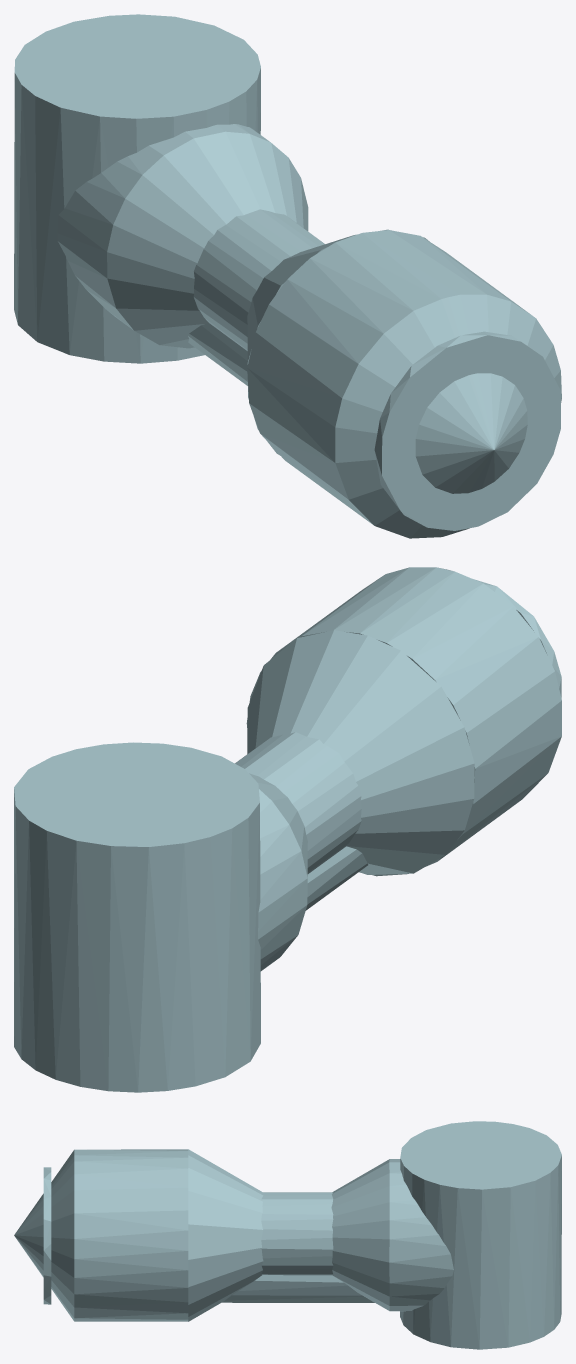
3 renders of one model, top to bottom at view 1: azimuth 30°, elevation 25°; view 2: azimuth 150°, elevation 25°; view 3: azimuth 270°, elevation 25°, orthographic. The views are drawn at different scales.
Parts seen in each view (by area): view 1: e2; view 2: e2; view 3: e2.
Boxes of the visible parts, x1,y1,x2,y2 form: e2: (14, 14, 561, 538); e2: (14, 567, 561, 1092); e2: (14, 1121, 561, 1349).
Bounding box in the file's own units: 0.113 × 0.116 × 0.3598.
